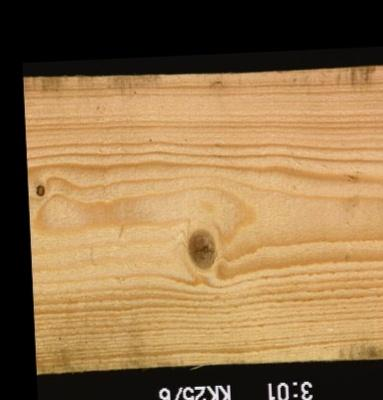dry_knot: (34, 181, 47, 199)
sound_knot: (184, 228, 218, 269)
